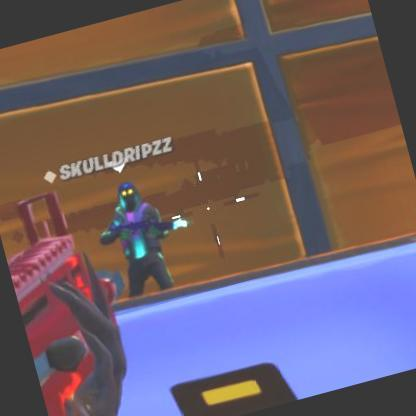person: (90, 174, 184, 300)
